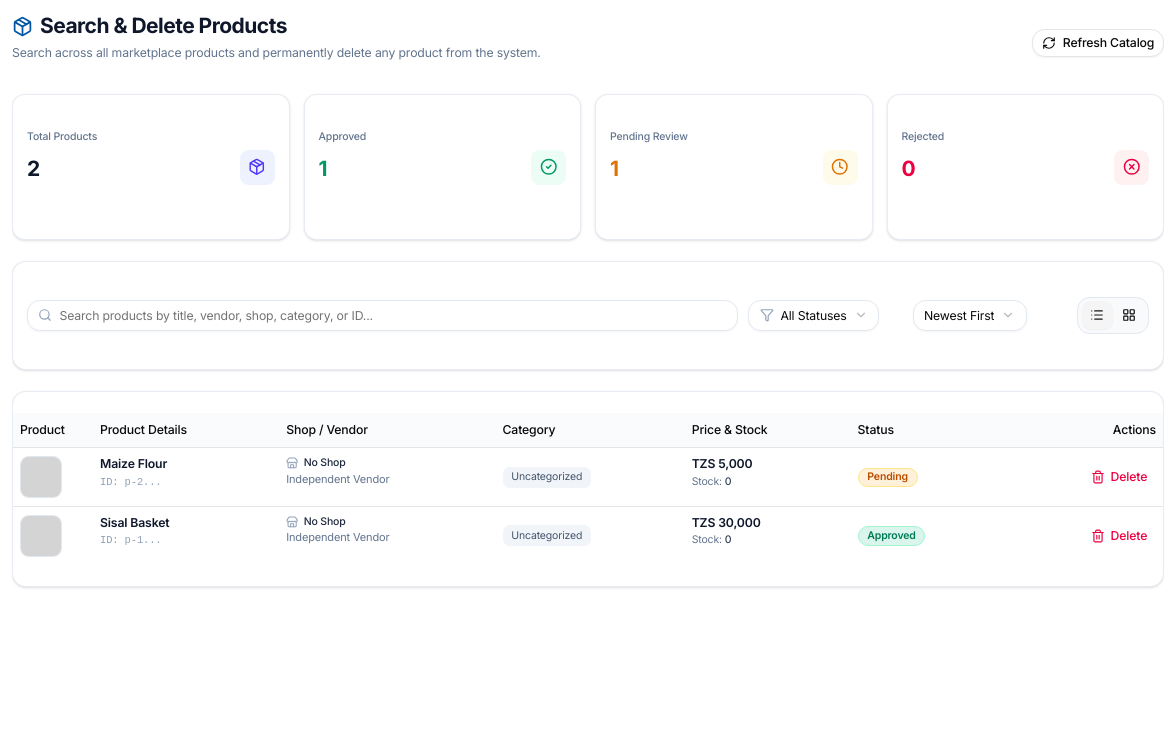
ProductManagementTab › narrows the list to a search match
Type "maize" into the field with placeholder "Search products by title, vendor, shop, category, or ID..." at point(382, 315), box x1=27 y1=300 x2=738 y2=331
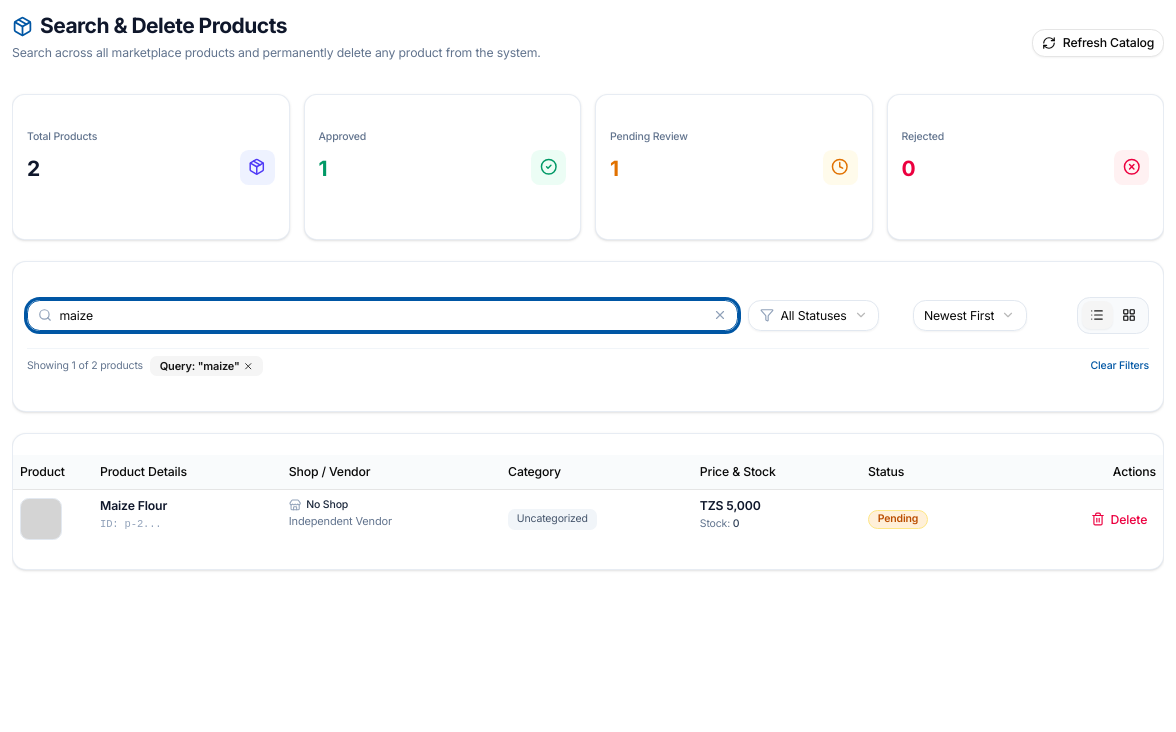
Expected: the text "Maize Flour" is shown, x1=100 y1=498 x2=167 y2=513
Expected: the text "Sisal Basket" is gone
